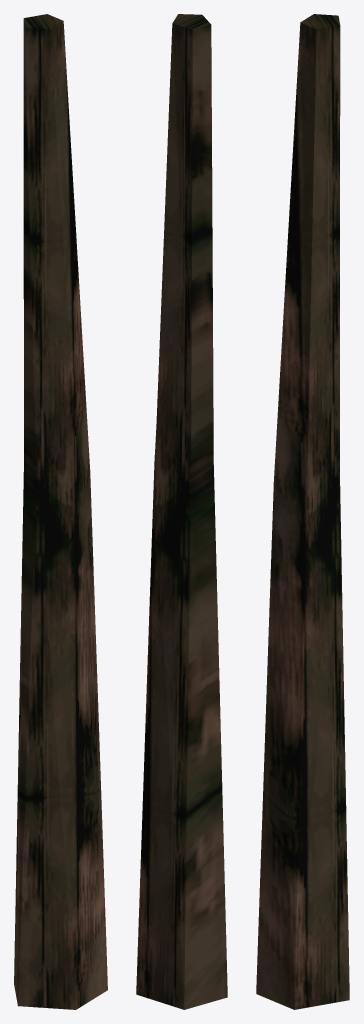
3 views of the same model, side by side, from view 1: azimuth 90°, elevation 25°; view 2: azimuth 210°, elevation 25°; view 3: azimuth 270°, elevation 25° (orthographic).
Parts seen in each view (by area): view 1: BT_7; view 2: BT_7; view 3: BT_7.
Part boxes in pixels (left/top/right/bottom): BT_7: left=14, top=14, right=107, bottom=1009; BT_7: left=136, top=14, right=227, bottom=1009; BT_7: left=256, top=14, right=349, bottom=1009.
Size of the model in its own units: 1.28 by 16.24 by 1.42.
Materials: 1 (1 with a texture image).
